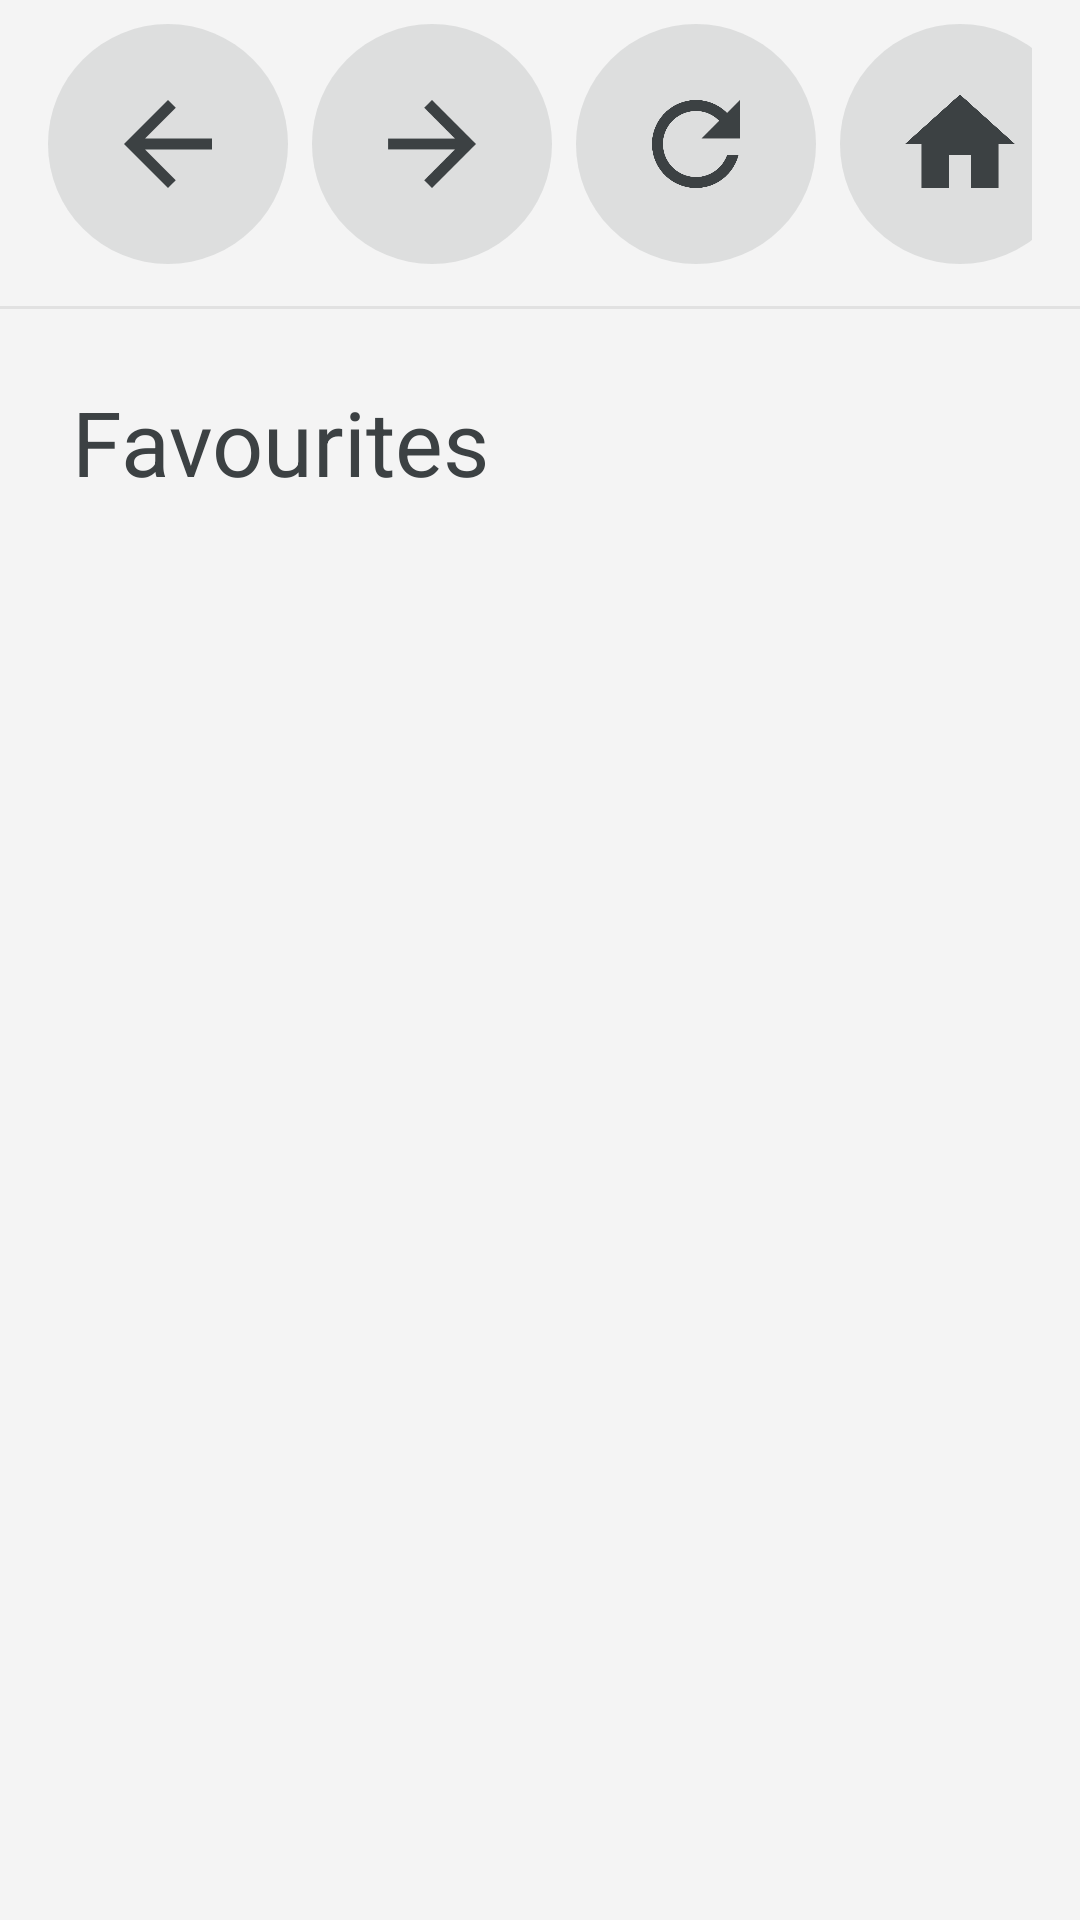

Where icons sit on this 1080 × 1920 app screen, as box=[x1, y1, x2, y2]:
Back: box=[48, 24, 288, 264]
Forward: box=[312, 24, 552, 264]
Home: box=[905, 95, 1015, 188]
Reload: box=[576, 24, 816, 264]
